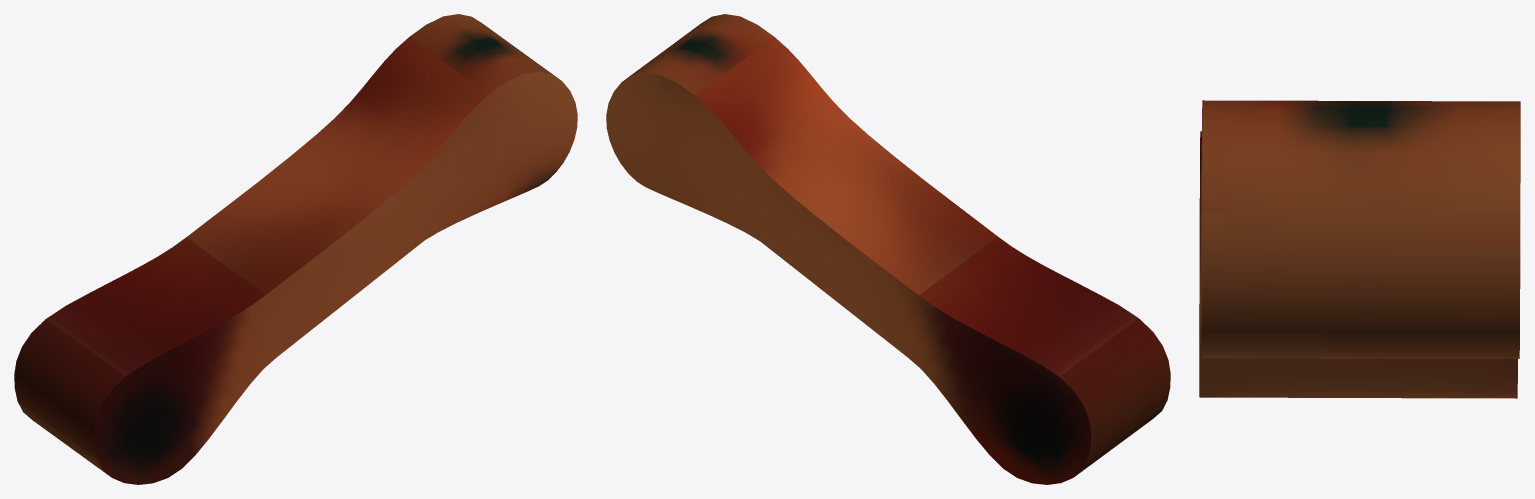
3 views of the same model, side by side, from view 1: azimuth 30°, elevation 25°; view 2: azimuth 150°, elevation 25°; view 3: azimuth 270°, elevation 25° (orthographic). The views are drawn at different scales.
Parts seen in each view (by area): view 1: arm-bk-C-2; view 2: arm-bk-C-2; view 3: arm-bk-C-2.
Boxes of the visible parts, x1,y1,x2,y2 form: arm-bk-C-2: (14, 14, 577, 484); arm-bk-C-2: (606, 14, 1170, 484); arm-bk-C-2: (1199, 100, 1520, 398).
Size of the model in its own units: 0.5416 by 0.1554 by 0.3405.
1 material, 1 textured.
